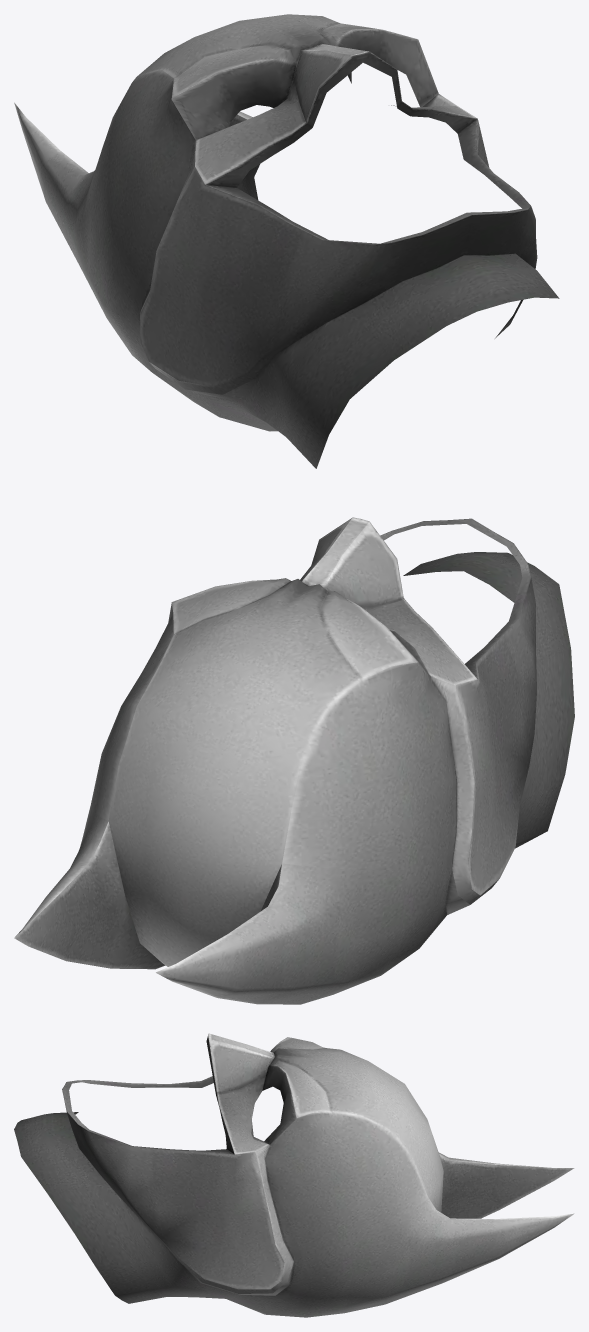
3 views of the same model, one above another, from view 1: azimuth 30°, elevation 25°; view 2: azimuth 150°, elevation 25°; view 3: azimuth 270°, elevation 25° (orthographic). The views are drawn at different scales.
Visible parts, largest first — view 1: body0_model0_lod0_mesh0; view 2: body0_model0_lod0_mesh0; view 3: body0_model0_lod0_mesh0.
Boxes of the visible parts, x1,y1,x2,y2 form: body0_model0_lod0_mesh0: (14, 14, 559, 468); body0_model0_lod0_mesh0: (14, 517, 574, 1004); body0_model0_lod0_mesh0: (14, 1033, 574, 1317).
Bounding box in the file's own units: 7.97 × 9.31 × 17.66.
1 material, 1 textured.
